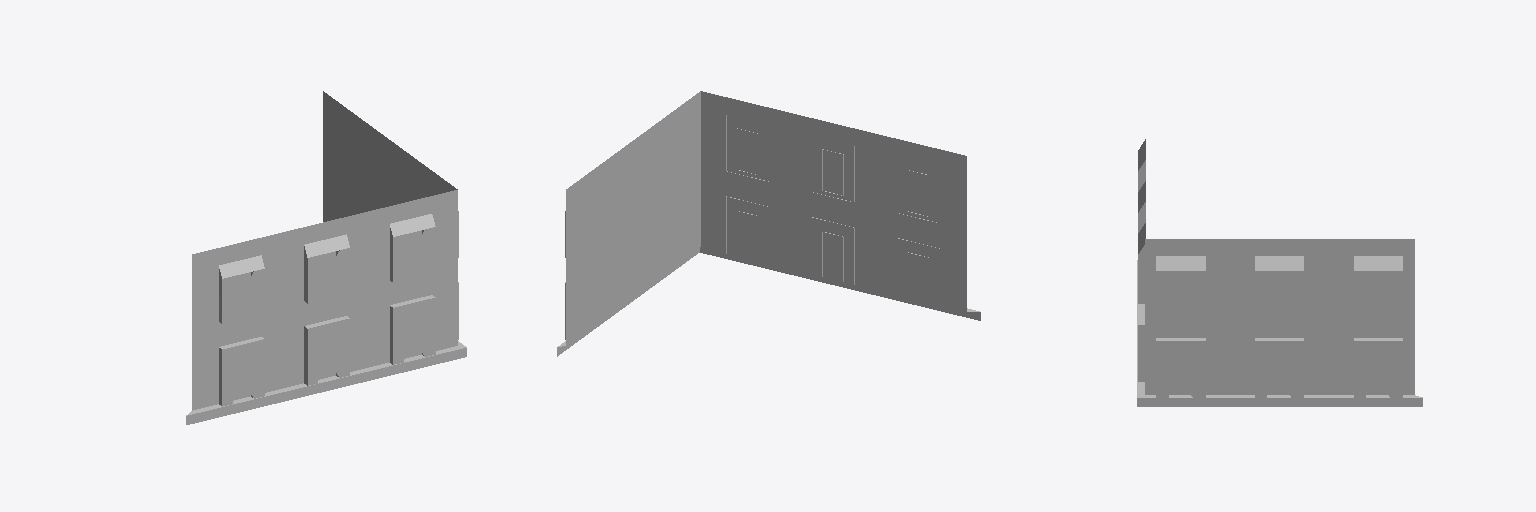
The model's file is building_low.obj.
3 views of the same model, side by side, from view 1: azimuth 30°, elevation 25°; view 2: azimuth 150°, elevation 25°; view 3: azimuth 270°, elevation 25° (orthographic).
Parts seen in each view (by area): view 1: paredes, Cube.002; view 2: paredes, Cube.002; view 3: paredes, Cube.002.
Part boxes in pixels (bbox=[...]): paredes: bbox=[186, 91, 466, 424]; Cube.002: bbox=[219, 211, 458, 406]; paredes: bbox=[557, 91, 980, 356]; Cube.002: bbox=[565, 114, 939, 339]; paredes: bbox=[1137, 239, 1422, 406]; Cube.002: bbox=[1138, 139, 1402, 398].
Bounding box in the file's own units: 50.17 × 28.05 × 43.76.